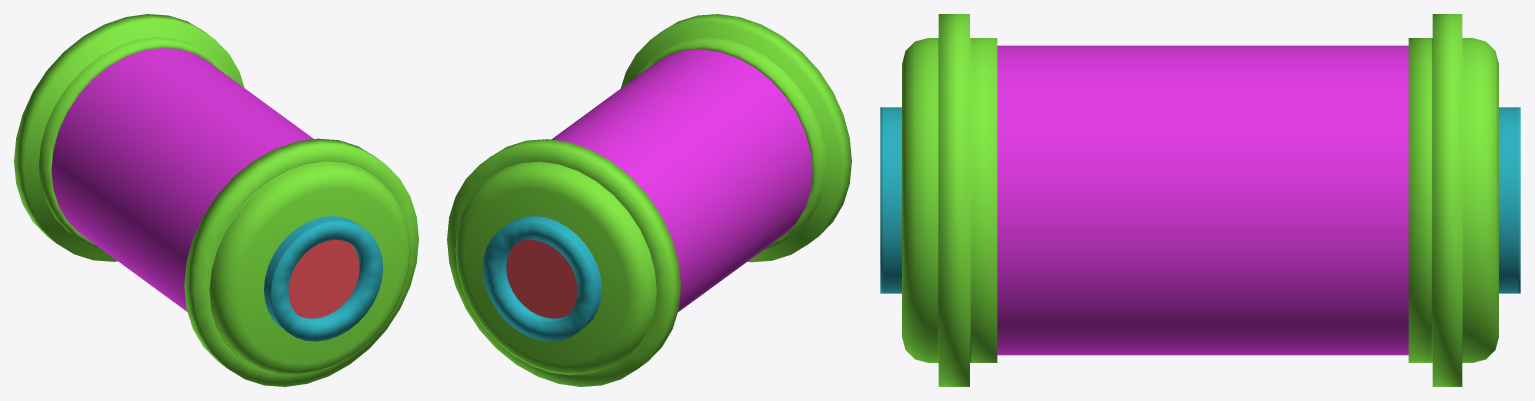
Rendered from Cell.dae.
3 views of the same model, side by side, from view 1: azimuth 30°, elevation 25°; view 2: azimuth 150°, elevation 25°; view 3: azimuth 270°, elevation 25° (orthographic). The views are drawn at different scales.
Parts seen in each view (by area): view 1: Caps, Glass, CapsInner; view 2: Caps, Glass, CapsInner; view 3: Glass, Caps.
Boxes of the visible parts, x1,y1,x2,y2 form: Caps: (14, 14, 418, 386); Glass: (51, 48, 313, 311); CapsInner: (288, 239, 359, 318); Caps: (447, 14, 851, 386); Glass: (551, 49, 812, 311); CapsInner: (506, 239, 577, 318); Glass: (997, 45, 1408, 355); Caps: (880, 14, 1520, 386).
Bounding box in the file's own units: 2.3 × 3.94 × 2.3.
